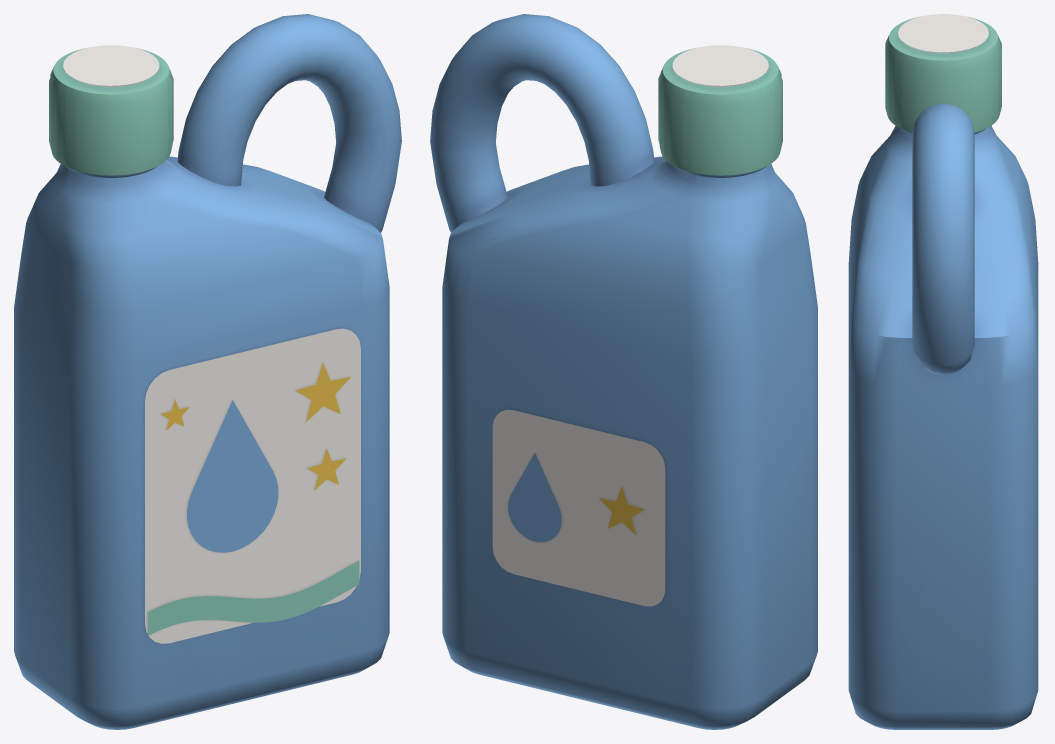
File: detergent-bottle.fbx
3 renders of one model, left to right at view 1: azimuth 30°, elevation 25°; view 2: azimuth 150°, elevation 25°; view 3: azimuth 270°, elevation 25°, orthographic. The views are drawn at different scales.
Visible parts, largest first — view 1: detergent-bottle_body; view 2: detergent-bottle_body; view 3: detergent-bottle_body.
Part boxes in pixels (x1,y1,x2,y2): detergent-bottle_body: (14, 14, 401, 729); detergent-bottle_body: (430, 14, 817, 729); detergent-bottle_body: (848, 14, 1038, 729).
Bounding box in the file's own units: 0.2025 × 0.3465 × 0.1028.
1 material, 1 textured.
